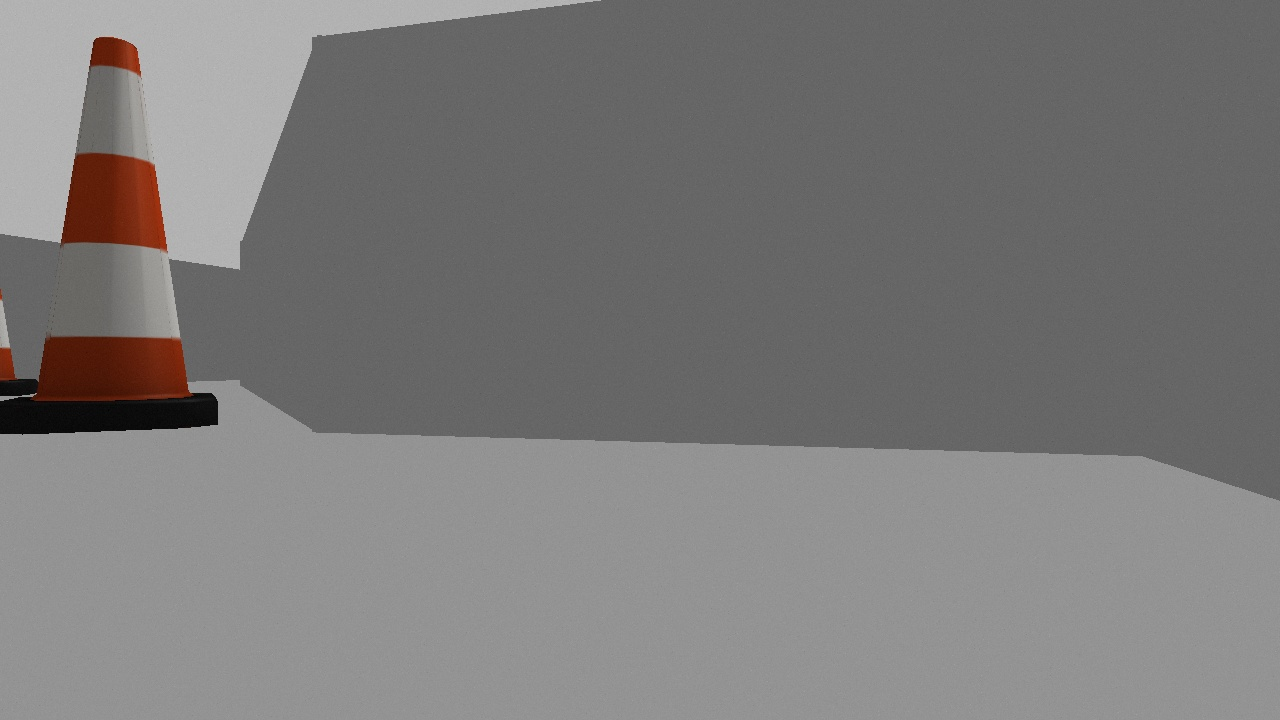barricade: (1, 33, 217, 433)
